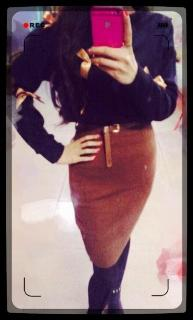long sleeve top: (5, 7, 178, 164)
skirt: (69, 116, 157, 268)
trousers: (72, 122, 152, 315)
